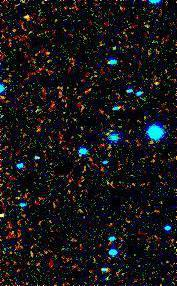star: (15, 2, 45, 32)
